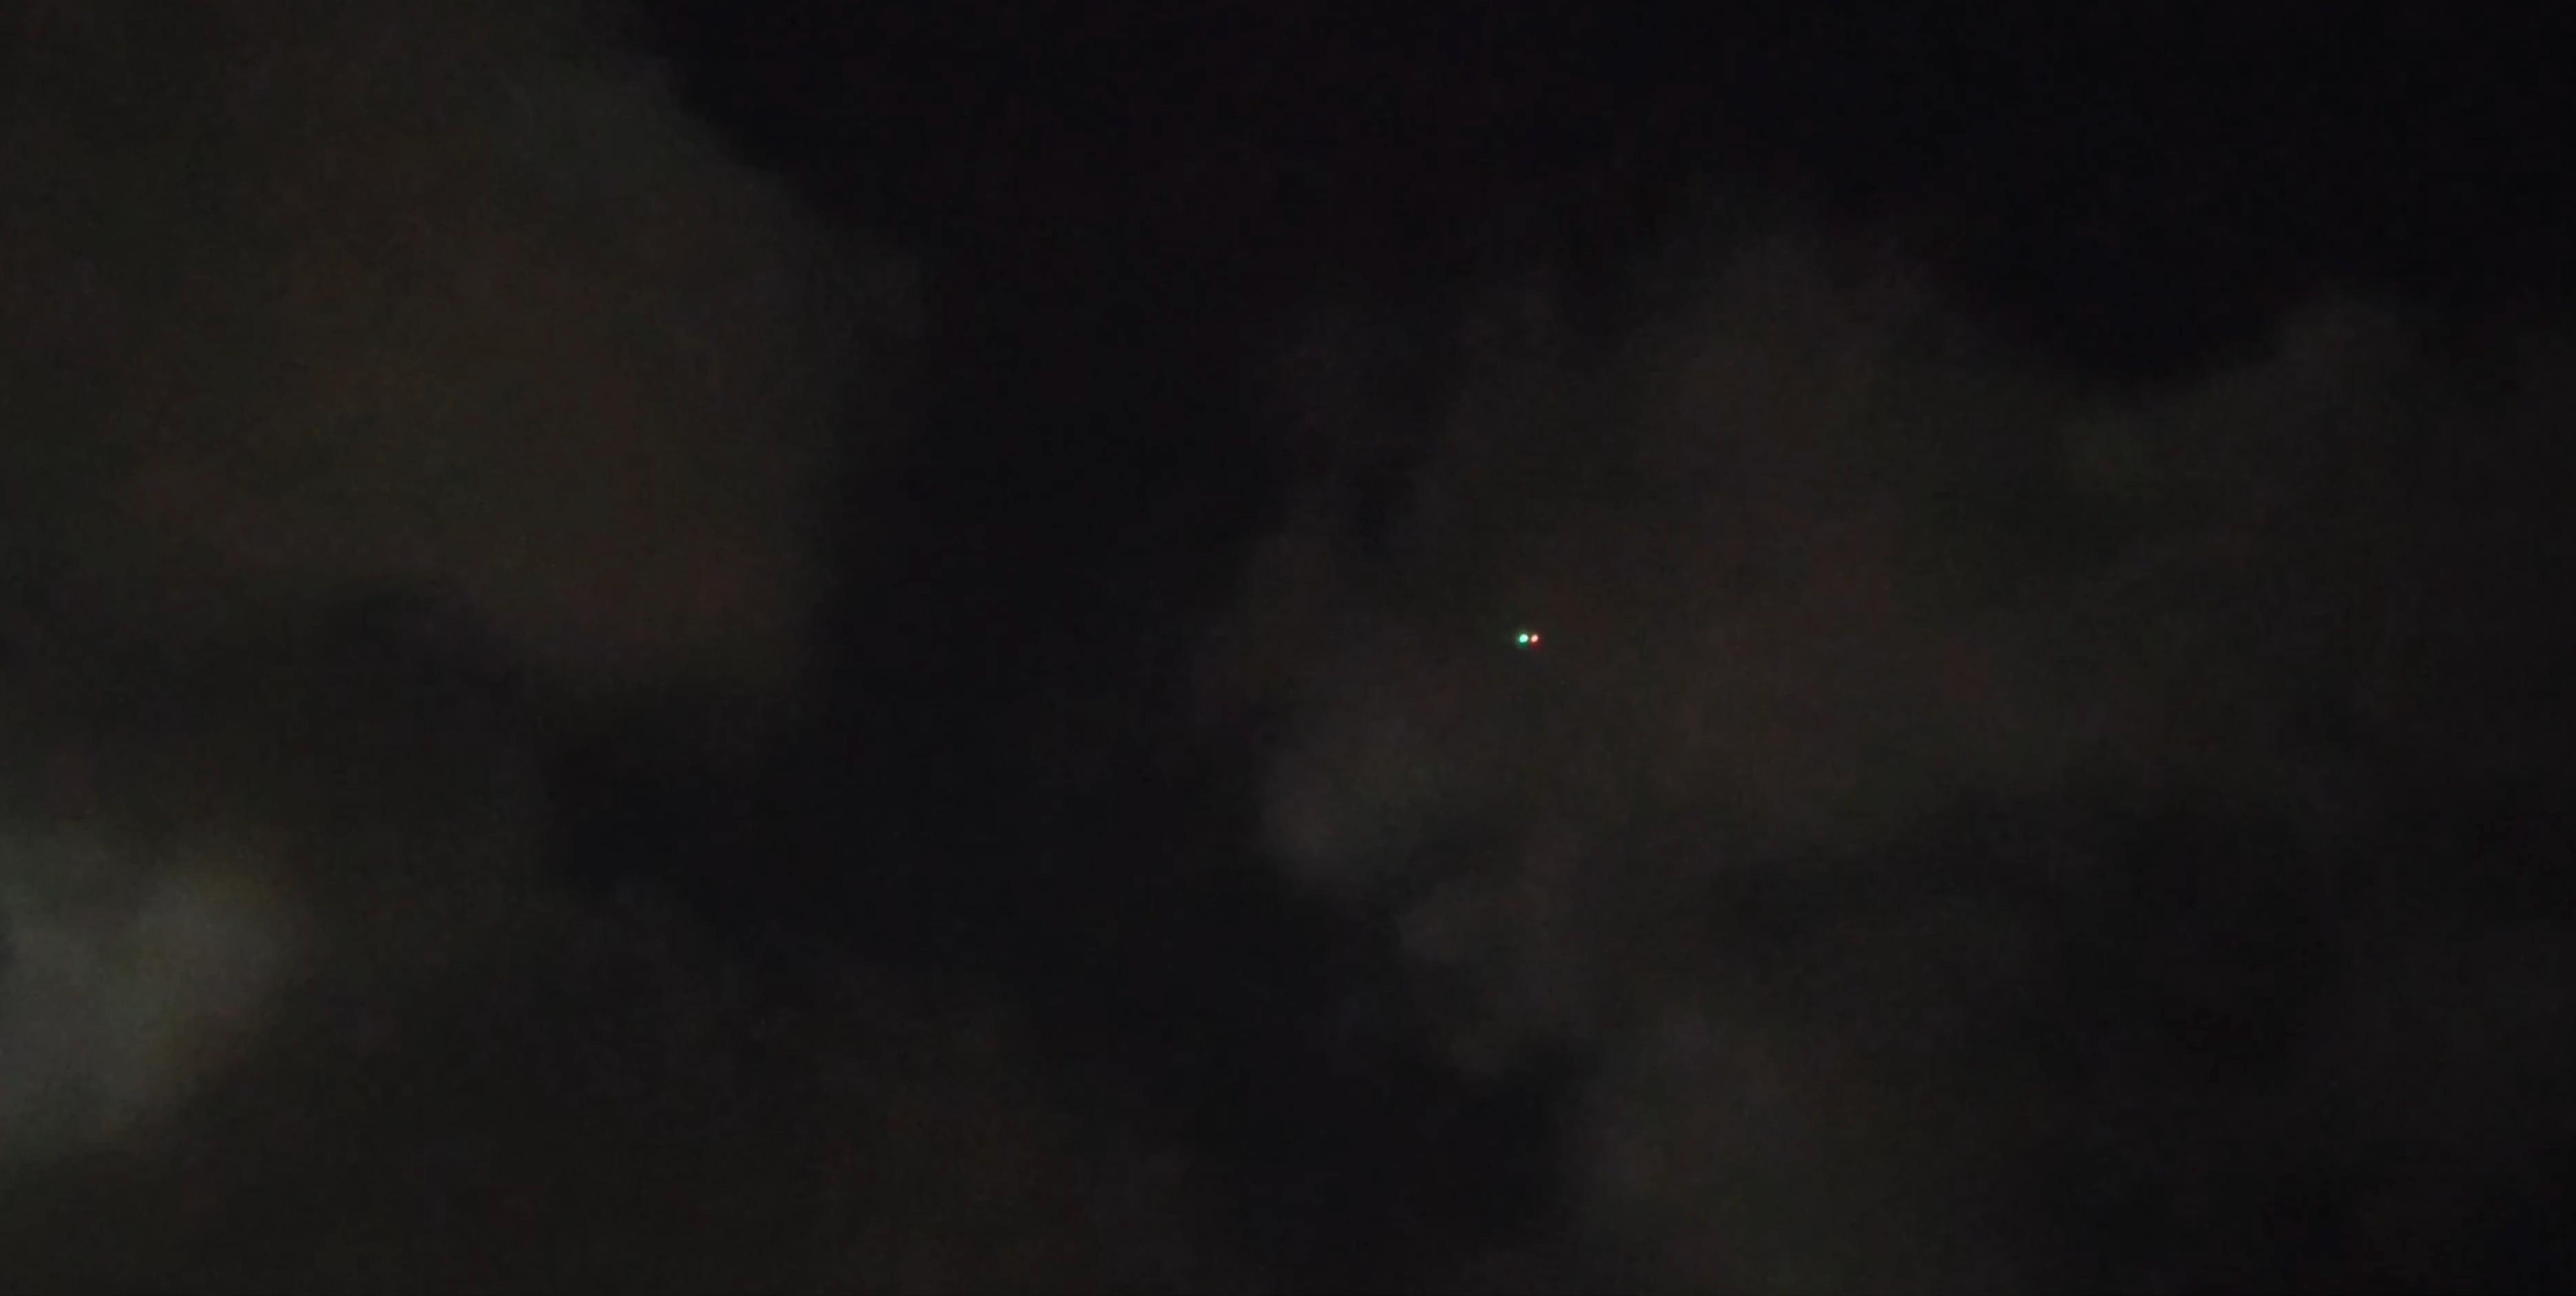Plane: (1514, 617, 1550, 658)
